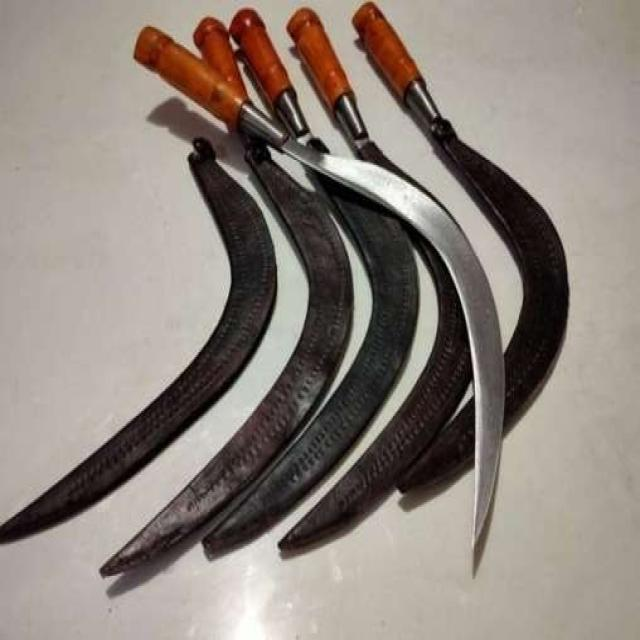Celurit: (134, 24, 507, 556)
